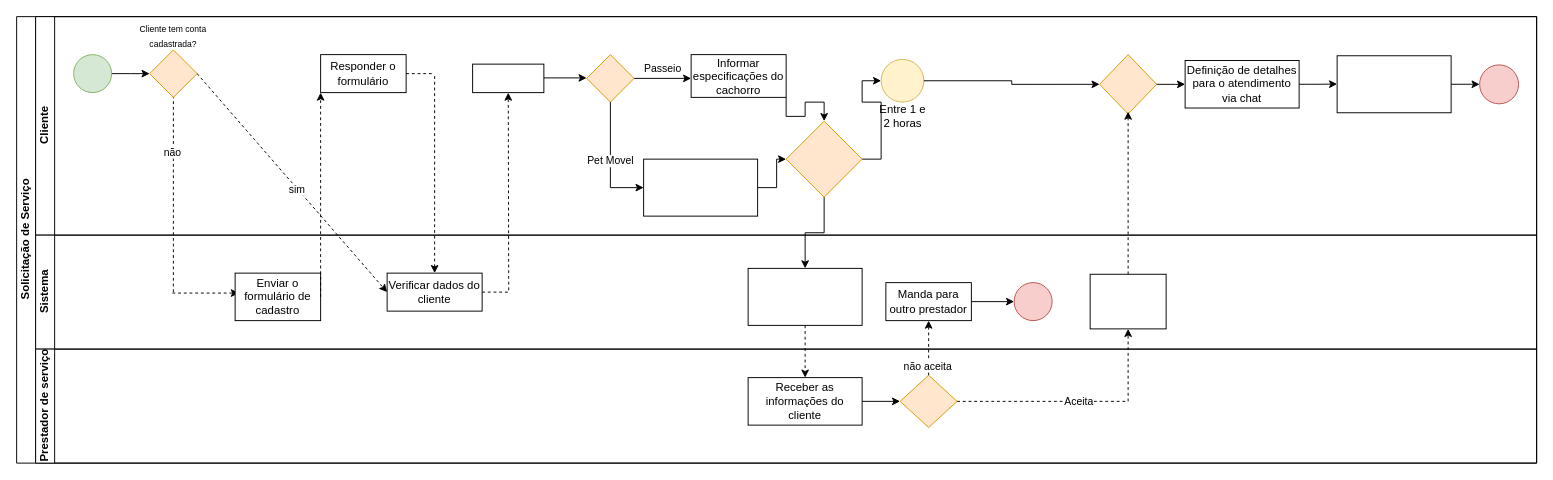
Some shapes in this 1553 by 480 pixel diagram are drawn without their labels. The shapes that lost their labels are listed below. From the top down, each one's box as (x1, y1, x2, y2) in pixels, then its label:
(472, 63, 544, 93): Mostrar os serviços
(1336, 55, 1451, 113): Prestação de serviço
(785, 120, 862, 197): Escolha da data e hora de atendimento
(643, 158, 758, 216): Especificação do tipo de serviço e do cachorro
(747, 267, 862, 325): Filtro dos prestadores de serviço
(1089, 273, 1166, 329): Conectar Prestador de Serviço ao Cliente
